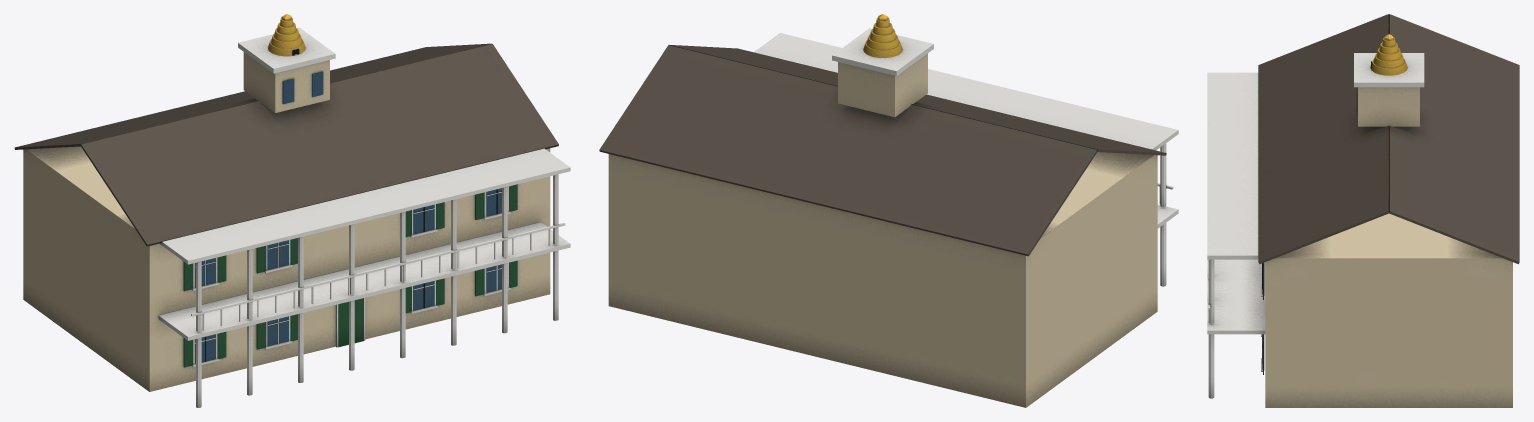
File: beehive_house.glb
The picture shows the model from 3 angles, left to right: view 1: azimuth 30°, elevation 25°; view 2: azimuth 150°, elevation 25°; view 3: azimuth 270°, elevation 25°; orthographic projection. The views are drawn at different scales.
Parts seen in each view (by area): view 1: beehive_house; view 2: beehive_house; view 3: beehive_house.
Part boxes in pixels (<box>): beehive_house: <box>14,14,570,407</box>; beehive_house: <box>599,14,1178,407</box>; beehive_house: <box>1207,14,1519,407</box>.
Size of the model in its own units: 22.6 by 14.85 by 15.12.
1 material, 1 textured.
